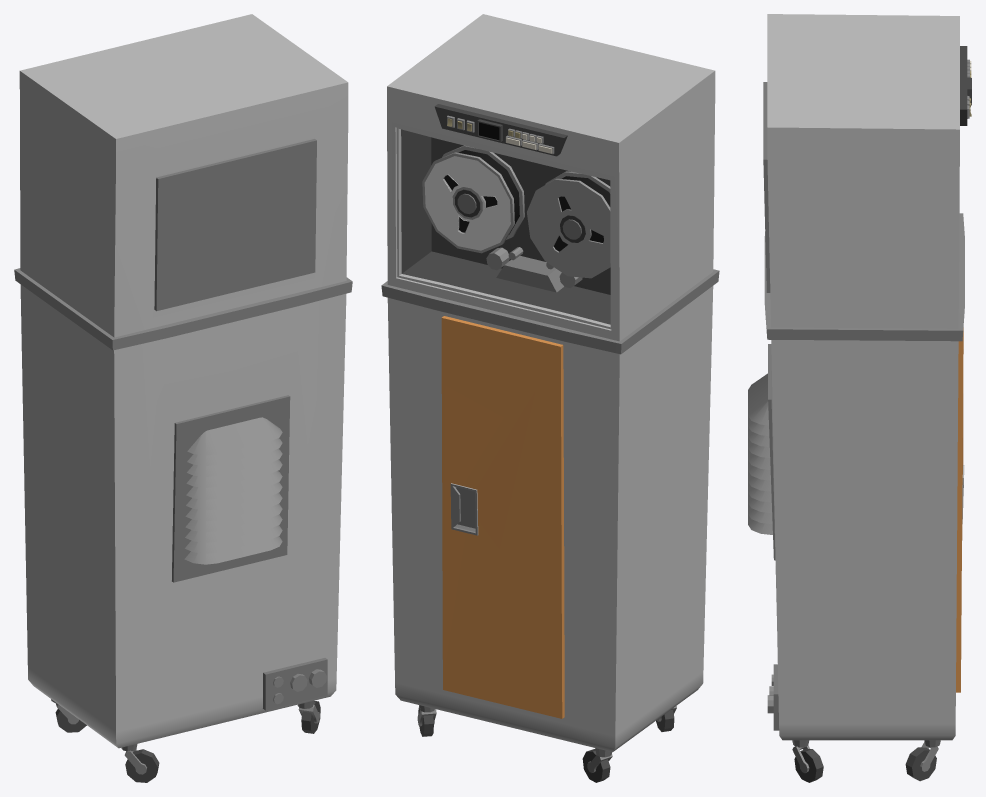
The model's file is orange_disco_machine.glb.
The picture shows the model from 3 angles, left to right: view 1: azimuth 30°, elevation 25°; view 2: azimuth 150°, elevation 25°; view 3: azimuth 270°, elevation 25°; orthographic projection.
Visible parts, largest first — view 1: orange_disco_machine.001; view 2: orange_disco_machine.001; view 3: orange_disco_machine.001.
Part boxes in pixels (x1=…): orange_disco_machine.001: x1=14, y1=14, x2=352, y2=782; orange_disco_machine.001: x1=381, y1=14, x2=719, y2=782; orange_disco_machine.001: x1=748, y1=14, x2=971, y2=782.
Bounding box in the file's own units: 0.8364 × 2.19 × 0.674.
